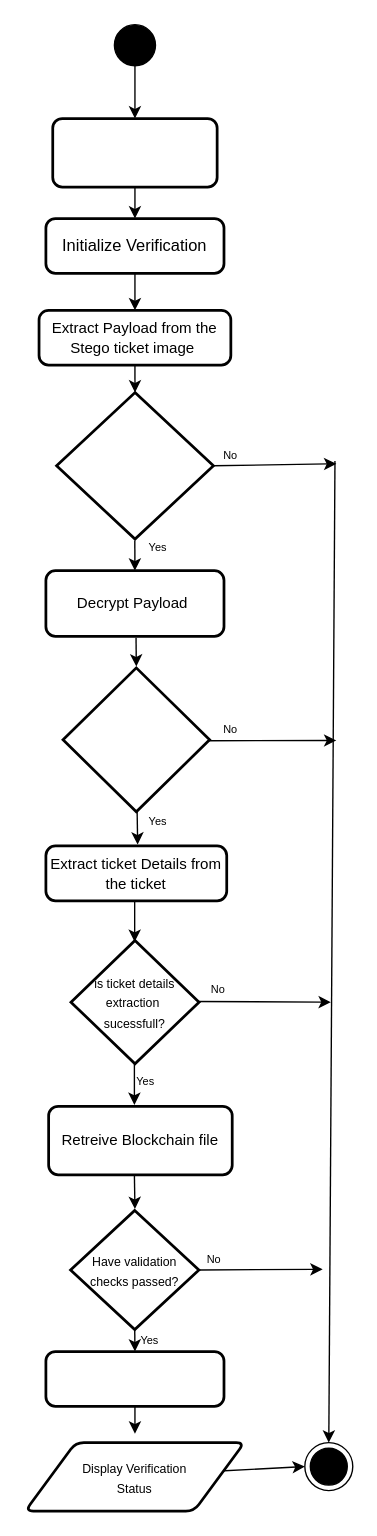
This 377x1536 diagram has some shape labels left out. Each missing label, with the centre of its shape:
"Confirm Ticket Status with Ticket Details" goes at (x=134, y=1378).
"is payload decryped sucessfully" goes at (x=135, y=739).
"is payload extraction sucessful" goes at (x=134, y=465).
"Scan or Load Stego Ticket Image" goes at (x=134, y=152).
